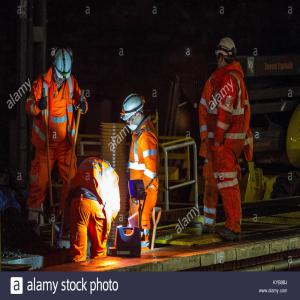blue: (122, 95, 145, 131), (54, 48, 73, 83)
white: (217, 37, 238, 68)
